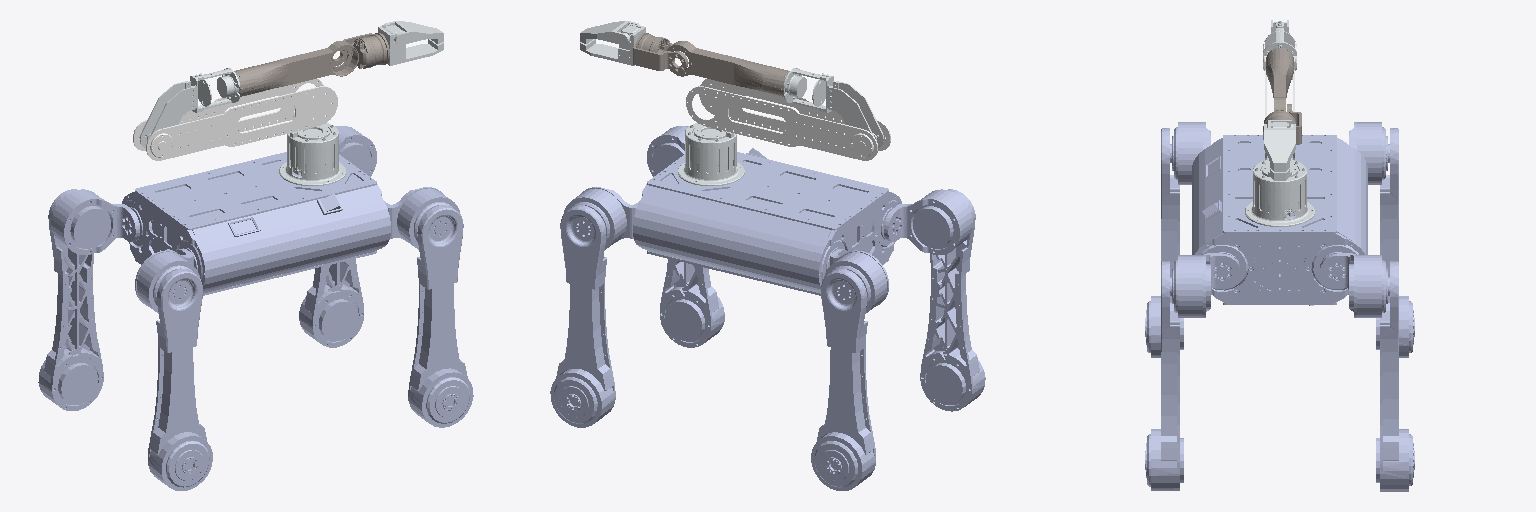
--- Render facts (derived) ---
Views: 3 orthographic renders of the robot side by side, from view 1: azimuth 30°, elevation 25°; view 2: azimuth 150°, elevation 25°; view 3: azimuth 270°, elevation 25°.
Model lion with 25 links and 24 joints (18 revolute, 6 fixed), rooted at base, posed joints at zero except 4 at the middle of their limits (RF_KFE = -1.75, LF_KFE = -1.75, RH_KFE = -1.75, LH_KFE = -1.75).
Links seen in each view (by area): view 1: base, RH_thigh, RF_thigh, upper_arm_link, LH_thigh, LF_thigh, LH_hip, lower_arm_link, arm_base_link, elbow_link, RF_hip, hand_link (+3 smaller); view 2: base, LH_thigh, LF_thigh, upper_arm_link, RH_thigh, RF_thigh, RH_hip, arm_base_link, elbow_link, lower_arm_link, LF_hip, hand_link (+3 smaller); view 3: base, LF_thigh, RF_thigh, RF_hip, LF_hip, arm_base_link, RH_thigh, LH_thigh, RH_hip, LH_hip, hand_link, lower_arm_link (+2 smaller).
Link boxes in pixels (bbox=[...]): base: bbox=[122, 152, 390, 295]; RH_thigh: bbox=[148, 269, 212, 490]; RF_thigh: bbox=[408, 205, 473, 427]; upper_arm_link: bbox=[133, 79, 337, 160]; LH_thigh: bbox=[38, 189, 103, 410]; LF_thigh: bbox=[299, 126, 363, 347]; LH_hip: bbox=[51, 189, 139, 254]; lower_arm_link: bbox=[234, 41, 358, 96]; arm_base_link: bbox=[279, 123, 345, 185]; elbow_link: bbox=[140, 68, 242, 147]; RF_hip: bbox=[384, 187, 460, 249]; hand_link: bbox=[378, 21, 443, 65]; base: bbox=[633, 148, 901, 295]; LH_thigh: bbox=[811, 269, 875, 490]; LF_thigh: bbox=[550, 205, 615, 427]; upper_arm_link: bbox=[686, 79, 890, 160]; RH_thigh: bbox=[920, 189, 985, 411]; RF_thigh: bbox=[660, 126, 724, 347]; RH_hip: bbox=[884, 189, 972, 254]; arm_base_link: bbox=[678, 121, 744, 185]; elbow_link: bbox=[781, 68, 883, 147]; lower_arm_link: bbox=[667, 41, 789, 96]; LF_hip: bbox=[563, 187, 638, 249]; hand_link: bbox=[580, 21, 645, 65]; base: bbox=[1192, 135, 1367, 305]; LF_thigh: bbox=[1376, 261, 1414, 491]; RF_thigh: bbox=[1145, 261, 1183, 490]; RF_hip: bbox=[1171, 253, 1239, 317]; LF_hip: bbox=[1320, 253, 1388, 317]; arm_base_link: bbox=[1245, 160, 1314, 226]; RH_thigh: bbox=[1145, 128, 1183, 357]; LH_thigh: bbox=[1376, 128, 1414, 357]; RH_hip: bbox=[1171, 122, 1210, 184]; LH_hip: bbox=[1349, 122, 1388, 184]; hand_link: bbox=[1264, 120, 1295, 180]; lower_arm_link: bbox=[1266, 48, 1293, 110].
Bounding box of the posed robot: 0.647 × 0.424 × 0.6394 m (x, y, z).
Meshes: 12 distinct files referenced, 15 mesh visuals loaded (9 binary STL); not drawn: 9 (reference not matched to a file when rendering).

robot.urdf — lion:
<?xml version="1.0" ?>
<!-- =================================================================================== -->
<!-- |    This document was autogenerated by xacro from robot.xacro                    | -->
<!-- |    EDITING THIS FILE BY HAND IS NOT RECOMMENDED                                 | -->
<!-- =================================================================================== -->
<robot name="lion">
  <!-- <xacro:arg name="robot_type" default="lion"/> -->
  <!-- ros_control plugin -->
  <gazebo>
    <plugin filename="liblegged_hw_sim.so" name="gazebo_ros_control">
      <robotNamespace>/</robotNamespace>
      <robotParam>legged_robot_description</robotParam>
      <robotSimType>legged_gazebo/QuadHWSim</robotSimType>
      <!-- <controlPeriod>0.002</controlPeriod> -->
    </plugin>
  </gazebo>
  <gazebo>
    <plugin filename="libgazebo_ros_p3d.so" name="p3d_base_controller">
      <alwaysOn>true</alwaysOn>
      <updateRate>1000.0</updateRate>
      <bodyName>base</bodyName>
      <topicName>ground_truth/state</topicName>
      <gaussianNoise>0</gaussianNoise>
      <frameName>world</frameName>
      <xyzOffsets>0 0 0</xyzOffsets>
      <rpyOffsets>0 0 0</rpyOffsets>
    </plugin>
  </gazebo>
  <gazebo reference="base">
    <maxVel>100.</maxVel>
    <kp>10000.</kp>
    <kd>0.</kd>
  </gazebo>
  <gazebo reference="stick_link">
    <mu1>0.2</mu1>
    <mu2>0.2</mu2>
    <material>Gazebo/White</material>
  </gazebo>
  <!-- LF leg -->
  <gazebo reference="LF_hip">
    <mu1>0.2</mu1>
    <mu2>0.2</mu2>
    <material>Gazebo/DarkGrey</material>
  </gazebo>
  <gazebo reference="LF_thigh">
    <mu1>0.2</mu1>
    <mu2>0.2</mu2>
    <self_collide>1</self_collide>
    <material>Gazebo/DarkGrey</material>
    <kp value="1000000.0"/>
    <kd value="1.0"/>
  </gazebo>
  <gazebo reference="LF_calf">
    <mu1>0.2</mu1>
    <mu2>0.2</mu2>
    <self_collide>1</self_collide>
  </gazebo>
  <gazebo reference="LF_FOOT">
    <mu1>0.9</mu1>
    <mu2>0.9</mu2>
    <self_collide>1</self_collide>
    <material>Gazebo/DarkGrey</material>
    <kp value="1000000.0"/>
    <kd value="100.0"/>
  </gazebo>
  <!-- RF leg -->
  <gazebo reference="RF_hip">
    <mu1>0.2</mu1>
    <mu2>0.2</mu2>
    <material>Gazebo/DarkGrey</material>
  </gazebo>
  <gazebo reference="RF_thigh">
    <mu1>0.2</mu1>
    <mu2>0.2</mu2>
    <self_collide>1</self_collide>
    <material>Gazebo/DarkGrey</material>
    <kp value="1000000.0"/>
    <kd value="1.0"/>
  </gazebo>
  <gazebo reference="RF_calf">
    <mu1>0.2</mu1>
    <mu2>0.2</mu2>
    <self_collide>1</self_collide>
  </gazebo>
  <gazebo reference="RF_FOOT">
    <mu1>0.9</mu1>
    <mu2>0.9</mu2>
    <self_collide>1</self_collide>
    <material>Gazebo/DarkGrey</material>
    <kp value="1000000.0"/>
    <kd value="1.0"/>
  </gazebo>
  <!-- LH leg -->
  <gazebo reference="LH_hip">
    <mu1>0.2</mu1>
    <mu2>0.2</mu2>
    <material>Gazebo/DarkGrey</material>
  </gazebo>
  <gazebo reference="LH_thigh">
    <mu1>0.2</mu1>
    <mu2>0.2</mu2>
    <self_collide>1</self_collide>
    <material>Gazebo/DarkGrey</material>
    <kp value="1000000.0"/>
    <kd value="1.0"/>
  </gazebo>
  <gazebo reference="LH_calf">
    <mu1>0.2</mu1>
    <mu2>0.2</mu2>
    <self_collide>1</self_collide>
  </gazebo>
  <gazebo reference="LH_FOOT">
    <mu1>0.9</mu1>
    <mu2>0.9</mu2>
    <self_collide>1</self_collide>
    <material>Gazebo/DarkGrey</material>
    <kp value="1000000.0"/>
    <kd value="1.0"/>
  </gazebo>
  <!-- RH leg -->
  <gazebo reference="RH_hip">
    <mu1>0.2</mu1>
    <mu2>0.2</mu2>
    <material>Gazebo/DarkGrey</material>
  </gazebo>
  <gazebo reference="RH_thigh">
    <mu1>0.2</mu1>
    <mu2>0.2</mu2>
    <self_collide>1</self_collide>
    <material>Gazebo/DarkGrey</material>
    <kp value="1000000.0"/>
    <kd value="1.0"/>
  </gazebo>
  <gazebo reference="RH_calf">
    <mu1>0.2</mu1>
    <mu2>0.2</mu2>
    <self_collide>1</self_collide>
  </gazebo>
  <gazebo reference="RH_FOOT">
    <mu1>0.9</mu1>
    <mu2>0.9</mu2>
    <self_collide>1</self_collide>
    <material>Gazebo/DarkGrey</material>
    <kp value="1000000.0"/>
    <kd value="1.0"/>
  </gazebo>
  <!-- <xacro:include filename="$(find lion_description)/urdf/$(arg robot_type)/const.xacro"/> -->
  <!--Quadruped Model*******************************************************************************************-->
  <link name="base">
    <inertial>
      <origin rpy="0 0 0" xyz="-0.000638750070817345 -0.00672058356158241 -0.00556735378698432"/>
      <mass value="8.286"/>
      <inertia ixx="0.056529" ixy="-0.001107" ixz="-3.045E-05" iyy="0.14156" iyz="-0.0011531" izz="0.17939"/>
    </inertial>
    <visual>
      <origin rpy="0 0 0" xyz="0 0 0"/>
      <geometry>
        <mesh filename="package://lion_description/meshes/base_link.STL"/>
      </geometry>
      <material name="">
        <color rgba="0.792156862745098 0.819607843137255 0.933333333333333 1"/>
      </material>
    </visual>
    <collision>
      <origin rpy="0 0 0" xyz="0 0 0"/>
      <geometry>
        <box size="0.35 0.24 0.14"/>
      </geometry>
    </collision>
  </link>
  <link name="RF_hip">
    <inertial>
      <origin rpy="0 0 0" xyz="-0.0050797 -0.047183 4.172E-05"/>
      <mass value="1.095"/>
      <inertia ixx="0.0010035" ixy="-0.00021789" ixz="1.433E-06" iyy="0.0014762" iyz="1.005E-06" izz="0.0012507"/>
    </inertial>
    <visual>
      <origin rpy="0 0 0" xyz="0 0 0"/>
      <geometry>
        <mesh filename="package://lion_description/meshes/hip_Link.STL"/>
      </geometry>
      <material name="">
        <color rgba="0.79216 0.81961 0.93333 1"/>
      </material>
    </visual>
    <collision>
      <origin rpy="1.5707963267948966 0 0" xyz="0.0 -0.05 0"/>
      <geometry>
        <!-- <box size="0.05 0.03 0.3"/> -->
        <cylinder length="0.06" radius="0.05"/>
      </geometry>
    </collision>
  </link>
  <joint name="RF_HAA" type="revolute">
    <origin rpy="0.0 0.0 0 " xyz="0.2467 -0.09 0"/>
    <parent link="base"/>
    <child link="RF_hip"/>
    <axis xyz="1 0 0"/>
    <limit effort="55" lower="-1.0" upper="1.0" velocity="30"/>
  </joint>
  <link name="RF_thigh">
    <inertial>
      ''
        
      <origin rpy="0 0 0" xyz="-2.7705E-05 -0.089684 -0.23198"/>
      <mass value="1.556"/>
      <inertia ixx="0.015631" ixy="-8.61E-07" ixz="-6.078E-06" iyy="0.016183" iyz="0.0004689" izz="0.0011163"/>
    </inertial>
    <visual>
      <origin rpy="0 0 0" xyz="0 0 0"/>
      <geometry>
        <mesh filename="package://lion_description/meshes/thigh_Link.STL"/>
      </geometry>
      <material name="">
        <color rgba="0.79216 0.81961 0.93333 1"/>
      </material>
    </visual>
    <collision>
      <origin rpy="1.5707963267948966 0 0" xyz="0 -0.09 -0.3"/>
      <geometry>
        <!-- <box size="0.05 0.03 0.3"/> -->
        <cylinder length="0.06" radius="0.05"/>
      </geometry>
    </collision>
  </link>
  <joint name="RF_HFE" type="revolute">
    <origin rpy="0 0.0 0" xyz="0 0 0"/>
    <parent link="RF_hip"/>
    <child link="RF_thigh"/>
    <axis xyz="0 1 0"/>
    <limit effort="55" lower="-3.0" upper="3.0" velocity="30"/>
  </joint>
  <link name="RF_calf">
    <inertial>
      <origin rpy="0 0 0" xyz="2.05E-06 -0.12517 -0.080832"/>
      <mass value="0.233"/>
      <inertia ixx="0.0033053" ixy="-3.64E-07" ixz="4.028E-06" iyy="0.0033126" iyz="-0.00013194" izz="4.3236E-05"/>
    </inertial>
    <visual>
      <origin rpy="0 0 0" xyz="0 0 0"/>
      <geometry>
        <mesh filename="package://lion_description/meshes/shank_Link.STL"/>
      </geometry>
      <material name="">
        <color rgba="0.79216 0.81961 0.93333 1"/>
      </material>
    </visual>
    <collision>
      <origin rpy="0 0 0" xyz="0 -0.119 -0.15"/>
      <geometry>
        <cylinder length="0.2" radius="0.01"/>
      </geometry>
    </collision>
  </link>
  <joint name="RF_KFE" type="revolute">
    <origin rpy="0 0 0" xyz="0 0 -0.3"/>
    <parent link="RF_thigh"/>
    <child link="RF_calf"/>
    <axis xyz="0 1 0"/>
    <limit effort="55" lower="-3.0" upper="-0.5" velocity="30"/>
  </joint>
  <link name="RF_FOOT">
    <contact>
      <friction_anchor/>
      <stiffness value="30000.0"/>
      <damping value="1000.0"/>
      <spinning_friction value="0.3"/>
      <lateral_friction value="3.0"/>
    </contact>
    <inertial>
      <origin rpy="0 0 0" xyz="0.0002617 0.00017365 0.0085579"/>
      <!-- <mass value="0.03946"/> -->
      <mass value="0.01"/>
      <!-- <inertia ixx="1.4527E-05" ixy="-8.5021E-08" ixz="-4.0103E-07" iyy="1.4601E-05" iyz="-2.6548E-07" izz="6.2338E-06"/> -->
      <inertia ixx="0.001983" ixy="0.000245" ixz="0.000013" iyy="0.002103" iyz="0.0000015" izz="0.000408"/>
    </inertial>
    <visual>
      <origin rpy="0 0 0" xyz="0 0 0"/>
      <geometry>
        <mesh filename="package://lion_description/meshes/foot_Link.STL"/>
      </geometry>
      <material name="">
        <color rgba="0.79216 0.81961 0.93333 1"/>
      </material>
    </visual>
    <collision>
      <origin rpy="0 0 0" xyz="0 0 0.002"/>
      <geometry>
        <sphere radius="0.02"/>
      </geometry>
    </collision>
  </link>
  <joint name="JointFR_foot" type="fixed">
    <origin rpy="0 0 0" xyz="0 -0.119 -0.3105"/>
    <parent link="RF_calf"/>
    <child link="RF_FOOT"/>
    <axis xyz="0 0 1"/>
  </joint>
  <link name="LF_hip">
    <inertial>
      <origin rpy="0 0 0" xyz="-0.0050797 -0.047183 4.172E-05"/>
      <!-- <mass value="0.39498"/> -->
      <mass value="1.095"/>
      <inertia ixx="0.0010035" ixy="-0.00021789" ixz="1.433E-06" iyy="0.0014762" iyz="1.005E-06" izz="0.0012507"/>
    </inertial>
    <visual>
      <origin rpy="0 0 0" xyz="0 0 0"/>
      <geometry>
        <mesh filename="package://lion_description/meshes/hip_Link.STL"/>
      </geometry>
      <material name="">
        <color rgba="0.79216 0.81961 0.93333 1"/>
      </material>
    </visual>
    <collision>
      <origin rpy="1.5707963267948966 0 0" xyz="0.0 -0.05 0"/>
      <geometry>
        <!-- <box size="0.05 0.03 0.3"/> -->
        <cylinder length="0.06" radius="0.05"/>
      </geometry>
    </collision>
  </link>
  <joint name="LF_HAA" type="revolute">
    <origin rpy="3.141592653589793 0.0 0 " xyz="0.2467 0.09 0"/>
    <parent link="base"/>
    <child link="LF_hip"/>
    <axis xyz="1 0 0"/>
    <limit effort="55" lower="-1.0" upper="1.0" velocity="30"/>
  </joint>
  <link name="LF_thigh">
    <inertial>
      <origin rpy="0 0 0" xyz="-2.7705E-05 -0.089684 -0.23198"/>
      <mass value="1.556"/>
      <inertia ixx="0.015631" ixy="-8.61E-07" ixz="-6.078E-06" iyy="0.016183" iyz="0.0004689" izz="0.0011163"/>
    </inertial>
    <visual>
      <origin rpy="0 0 0" xyz="0 0 0"/>
      <geometry>
        <mesh filename="package://lion_description/meshes/thigh_Link.STL"/>
      </geometry>
      <material name="">
        <color rgba="0.79216 0.81961 0.93333 1"/>
      </material>
    </visual>
    <collision>
      <origin rpy="1.5707963267948966 0 0" xyz="0 -0.09 -0.3"/>
      <geometry>
        <!-- <box size="0.05 0.03 0.3"/> -->
        <cylinder length="0.06" radius="0.05"/>
      </geometry>
    </collision>
  </link>
  <joint name="LF_HFE" type="revolute">
    <origin rpy="0 3.141592653589793 0" xyz="0 0 0"/>
    <parent link="LF_hip"/>
    <child link="LF_thigh"/>
    <axis xyz="0 -1 0"/>
    <limit effort="55" lower="-3.0" upper="3.0" velocity="30"/>
  </joint>
  <link name="LF_calf">
    <inertial>
      <origin rpy="0 0 0" xyz="2.05E-06 -0.12517 -0.080832"/>
      <mass value="0.233"/>
      <inertia ixx="0.0033053" ixy="-3.64E-07" ixz="4.028E-06" iyy="0.0033126" iyz="-0.00013194" izz="4.3236E-05"/>
    </inertial>
    <visual>
      <origin rpy="0 0 0" xyz="0 0 0"/>
      <geometry>
        <mesh filename="package://lion_description/meshes/shank_Link.STL"/>
      </geometry>
      <material name="">
        <color rgba="0.79216 0.81961 0.93333 1"/>
      </material>
    </visual>
    <collision>
      <origin rpy="0 0 0" xyz="0 -0.119 -0.15"/>
      <geometry>
        <cylinder length="0.2" radius="0.01"/>
      </geometry>
    </collision>
  </link>
  <joint name="LF_KFE" type="revolute">
    <origin rpy="0 0 0" xyz="0 0 -0.3"/>
    <parent link="LF_thigh"/>
    <child link="LF_calf"/>
    <axis xyz="0 -1 0"/>
    <limit effort="55" lower="-3.0" upper="-0.5" velocity="30"/>
  </joint>
  <link name="LF_FOOT">
    <contact>
      <friction_anchor/>
      <stiffness value="30000.0"/>
      <damping value="1000.0"/>
      <spinning_friction value="0.3"/>
      <lateral_friction value="3.0"/>
    </contact>
    <inertial>
      <origin rpy="0 0 0" xyz="0.0002617 0.00017365 0.0085579"/>
      <!-- <mass value="0.03946"/> -->
      <mass value="0.01"/>
      <!-- <inertia ixx="1.4527E-05" ixy="-8.5021E-08" ixz="-4.0103E-07" iyy="1.4601E-05" iyz="-2.6548E-07" izz="6.2338E-06"/> -->
      <inertia ixx="0.001983" ixy="0.000245" ixz="0.000013" iyy="0.002103" iyz="0.0000015" izz="0.000408"/>
    </inertial>
    <visual>
      <origin rpy="0 0 0" xyz="0 0 0"/>
      <geometry>
        <mesh filename="package://lion_description/meshes/foot_Link.STL"/>
      </geometry>
      <material name="">
        <color rgba="0.79216 0.81961 0.93333 1"/>
      </material>
    </visual>
    <collision>
      <origin rpy="0 0 0" xyz="0 0 0.002"/>
      <geometry>
        <sphere radius="0.02"/>
      </geometry>
    </collision>
  </link>
  <joint name="JointFL_foot" type="fixed">
    <origin rpy="0 0 0" xyz="0 -0.119 -0.3105"/>
    <parent link="LF_calf"/>
    <child link="LF_FOOT"/>
    <axis xyz="0 0 1"/>
  </joint>
  <link name="RH_hip">
    <inertial>
      <origin rpy="0 0 0" xyz="-0.0050797 -0.047183 4.172E-05"/>
      <mass value="1.095"/>
      <inertia ixx="0.0010035" ixy="-0.00021789" ixz="1.433E-06" iyy="0.0014762" iyz="1.005E-06" izz="0.0012507"/>
    </inertial>
    <visual>
      <origin rpy="0 0 0" xyz="0 0 0"/>
      <geometry>
        <mesh filename="package://lion_description/meshes/hip_Link.STL"/>
      </geometry>
      <material name="">
        <color rgba="0.79216 0.81961 0.93333 1"/>
      </material>
    </visual>
    <collision>
      <origin rpy="1.5707963267948966 0 0" xyz="0.0 -0.05 0"/>
      <geometry>
        <!-- <box size="0.05 0.03 0.3"/> -->
        <cylinder length="0.06" radius="0.05"/>
      </geometry>
    </collision>
  </link>
  <joint name="RH_HAA" type="revolute">
    <origin rpy="0.0 3.141592653589793 0 " xyz="-0.2467 -0.09 0"/>
    <parent link="base"/>
    <child link="RH_hip"/>
    <axis xyz="-1 0 0"/>
    <limit effort="55" lower="-1.0" upper="1.0" velocity="30"/>
  </joint>
  <link name="RH_thigh">
    <inertial>
      <origin rpy="0 0 0" xyz="-2.7705E-05 -0.089684 -0.23198"/>
      <mass value="1.556"/>
      <inertia ixx="0.015631" ixy="-8.61E-07" ixz="-6.078E-06" iyy="0.016183" iyz="0.0004689" izz="0.0011163"/>
    </inertial>
    <visual>
      <origin rpy="0 0 0" xyz="0 0 0"/>
      <geometry>
        <mesh filename="package://lion_description/meshes/thigh_Link.STL"/>
      </geometry>
      <material name="">
        <color rgba="0.79216 0.81961 0.93333 1"/>
      </material>
    </visual>
    <collision>
      <origin rpy="1.5707963267948966 0 0" xyz="0 -0.09 -0.3"/>
      <geometry>
        <!-- <box size="0.05 0.03 0.3"/> -->
        <cylinder length="0.06" radius="0.05"/>
      </geometry>
    </collision>
  </link>
  <joint name="RH_HFE" type="revolute">
    <origin rpy="0 3.141592653589793 0" xyz="0 0 0"/>
    <parent link="RH_hip"/>
    <child link="RH_thigh"/>
    <axis xyz="0 1 0"/>
    <limit effort="55" lower="-3.0" upper="3.0" velocity="30"/>
  </joint>
  <link name="RH_calf">
    <inertial>
      <origin rpy="0 0 0" xyz="2.05E-06 -0.12517 -0.080832"/>
      <mass value="0.233"/>
      <inertia ixx="0.0033053" ixy="-3.64E-07" ixz="4.028E-06" iyy="0.0033126" iyz="-0.00013194" izz="4.3236E-05"/>
    </inertial>
    <visual>
      <origin rpy="0 0 0" xyz="0 0 0"/>
      <geometry>
        <mesh filename="package://lion_description/meshes/shank_Link.STL"/>
      </geometry>
      <material name="">
        <color rgba="0.79216 0.81961 0.93333 1"/>
      </material>
    </visual>
    <collision>
      <origin rpy="0 0 0" xyz="0 -0.119 -0.15"/>
      <geometry>
        <cylinder length="0.2" radius="0.01"/>
      </geometry>
    </collision>
  </link>
  <joint name="RH_KFE" type="revolute">
    <origin rpy="0 0 0" xyz="0 0 -0.3"/>
    <parent link="RH_thigh"/>
    <child link="RH_calf"/>
    <axis xyz="0 1 0"/>
    <limit effort="55" lower="-3.0" upper="-0.5" velocity="30"/>
  </joint>
  <link name="RH_FOOT">
    <contact>
      <friction_anchor/>
      <stiffness value="30000.0"/>
      <damping value="1000.0"/>
      <spinning_friction value="0.3"/>
      <lateral_friction value="3.0"/>
    </contact>
    <inertial>
      <origin rpy="0 0 0" xyz="0.0002617 0.00017365 0.0085579"/>
      <!-- <mass value="0.03946"/> -->
      <mass value="0.01"/>
      <!-- <inertia ixx="1.4527E-05" ixy="-8.5021E-08" ixz="-4.0103E-07" iyy="1.4601E-05" iyz="-2.6548E-07" izz="6.2338E-06"/> -->
      <inertia ixx="0.001983" ixy="0.000245" ixz="0.000013" iyy="0.002103" iyz="0.0000015" izz="0.000408"/>
    </inertial>
    <visual>
      <origin rpy="0 0 0" xyz="0 0 0"/>
      <geometry>
        <mesh filename="package://lion_description/meshes/foot_Link.STL"/>
      </geometry>
      <material name="">
        <color rgba="0.79216 0.81961 0.93333 1"/>
      </material>
    </visual>
    <collision>
      <origin rpy="0 0 0" xyz="0 0 0.002"/>
      <geometry>
        <sphere radius="0.02"/>
      </geometry>
    </collision>
  </link>
  <joint name="JointHR_foot" type="fixed">
    <origin rpy="0 0 0" xyz="0 -0.119 -0.3105"/>
    <parent link="RH_calf"/>
    <child link="RH_FOOT"/>
    <axis xyz="0 0 1"/>
  </joint>
  <link name="LH_hip">
    <inertial>
      <origin rpy="0 0 0" xyz="-0.0050797 -0.047183 4.172E-05"/>
      <mass value="1.095"/>
      <inertia ixx="0.0010035" ixy="-0.00021789" ixz="1.433E-06" iyy="0.0014762" iyz="1.005E-06" izz="0.0012507"/>
    </inertial>
    <visual>
      <origin rpy="0 0 0" xyz="0 0 0"/>
      <geometry>
        <mesh filename="package://lion_description/meshes/hip_Link.STL"/>
      </geometry>
      <material name="">
        <color rgba="0.79216 0.81961 0.93333 1"/>
      </material>
    </visual>
    <collision>
      <origin rpy="1.5707963267948966 0 0" xyz="0.0 -0.05 0"/>
      <geometry>
        <!-- <box size="0.05 0.03 0.3"/> -->
        <cylinder length="0.06" radius="0.05"/>
      </geometry>
    </collision>
  </link>
  <joint name="LH_HAA" type="revolute">
    <origin rpy="3.141592653589793 3.141592653589793 0 " xyz="-0.2467 0.09 0"/>
    <parent link="base"/>
    <child link="LH_hip"/>
    <axis xyz="-1 0 0"/>
    <limit effort="55" lower="-1.0" upper="1.0" velocity="30"/>
  </joint>
  <link name="LH_thigh">
    <inertial>
      <origin rpy="0 0 0" xyz="-2.7705E-05 -0.089684 -0.23198"/>
      <mass value="1.556"/>
      <inertia ixx="0.015631" ixy="-8.61E-07" ixz="-6.078E-06" iyy="0.016183" iyz="0.0004689" izz="0.0011163"/>
    </inertial>
    <visual>
      <origin rpy="0 0 0" xyz="0 0 0"/>
      <geometry>
        <mesh filename="package://lion_description/meshes/thigh_Link.STL"/>
      </geometry>
      <material name="">
        <color rgba="0.79216 0.81961 0.93333 1"/>
      </material>
    </visual>
    <collision>
      <origin rpy="1.5707963267948966 0 0" xyz="0 -0.09 -0.3"/>
      <geometry>
        <!-- <box size="0.05 0.03 0.3"/> -->
        <cylinder length="0.06" radius="0.05"/>
      </geometry>
    </collision>
  </link>
  <joint name="LH_HFE" type="revolute">
    <origin rpy="0 6.283185307179586 0" xyz="0 0 0"/>
    <parent link="LH_hip"/>
    <child link="LH_thigh"/>
    <axis xyz="0 -1 0"/>
    <limit effort="55" lower="-3.0" upper="3.0" velocity="30"/>
  </joint>
  <link name="LH_calf">
    <inertial>
      <origin rpy="0 0 0" xyz="2.05E-06 -0.12517 -0.080832"/>
      <mass value="0.233"/>
      <inertia ixx="0.0033053" ixy="-3.64E-07" ixz="4.028E-06" iyy="0.0033126" iyz="-0.00013194" izz="4.3236E-05"/>
    </inertial>
    <visual>
      <origin rpy="0 0 0" xyz="0 0 0"/>
      <geometry>
        <mesh filename="package://lion_description/meshes/shank_Link.STL"/>
      </geometry>
      <material name="">
        <color rgba="0.79216 0.81961 0.93333 1"/>
      </material>
    </visual>
    <collision>
      <origin rpy="0 0 0" xyz="0 -0.119 -0.15"/>
      <geometry>
        <cylinder length="0.2" radius="0.01"/>
      </geometry>
    </collision>
  </link>
  <joint name="LH_KFE" type="revolute">
    <origin rpy="0 0 0" xyz="0 0 -0.3"/>
    <parent link="LH_thigh"/>
    <child link="LH_calf"/>
    <axis xyz="0 -1 0"/>
    <limit effort="55" lower="-3.0" upper="-0.5" velocity="30"/>
  </joint>
  <link name="LH_FOOT">
    <contact>
      <friction_anchor/>
      <stiffness value="30000.0"/>
      <damping value="1000.0"/>
      <spinning_friction value="0.3"/>
      <lateral_friction value="3.0"/>
    </contact>
    <inertial>
      <origin rpy="0 0 0" xyz="0.0002617 0.00017365 0.0085579"/>
      <!-- <mass value="0.03946"/> -->
      <mass value="0.01"/>
      <!-- <inertia ixx="1.4527E-05" ixy="-8.5021E-08" ixz="-4.0103E-07" iyy="1.4601E-05" iyz="-2.6548E-07" izz="6.2338E-06"/> -->
      <inertia ixx="0.001983" ixy="0.000245" ixz="0.000013" iyy="0.002103" iyz="0.0000015" izz="0.000408"/>
    </inertial>
    <visual>
      <origin rpy="0 0 0" xyz="0 0 0"/>
      <geometry>
        <mesh filename="package://lion_description/meshes/foot_Link.STL"/>
      </geometry>
      <material name="">
        <color rgba="0.79216 0.81961 0.93333 1"/>
      </material>
    </visual>
    <collision>
      <origin rpy="0 0 0" xyz="0 0 0.002"/>
      <geometry>
        <sphere radius="0.02"/>
      </geometry>
    </collision>
  </link>
  <joint name="JointHL_foot" type="fixed">
    <origin rpy="0 0 0" xyz="0 -0.119 -0.3105"/>
    <parent link="LH_calf"/>
    <child link="LH_FOOT"/>
    <axis xyz="0 0 1"/>
  </joint>
  <!-- Arm Model ********************************************************************************************************  -->
  <link name="arm_base_link">
    <inertial>
      <origin rpy="0 0 0" xyz="-2.655E-05 -0.00013067 0.042361"/>
      <mass value="0.91201"/>
      <inertia ixx="0.00076553" ixy="3.0928E-06" ixz="4.0773E-06" iyy="0.000762" iyz="-3.7031E-06" izz="0.00081713"/>
    </inertial>
    <visual>
      <origin rpy="0 0 0" xyz="0 0 0"/>
      <geometry>
        <mesh filename="package://lion_armed_description/meshes/arm_base_link.STL"/>
      </geometry>
      <material name="">
        <color rgba="0.89804 0.91765 0.92941 1"/>
      </material>
    </visual>
    <collision>
      <origin rpy="0 0 0" xyz="0 0 0.04"/>
      <geometry>
        <cylinder length="0.06" radius="0.045"/>
      </geometry>
    </collision>
  </link>
  <joint name="body_arm" type="fixed">
    <origin rpy="0 0 0" xyz="0.1075 0 0.0635"/>
    <parent link="base"/>
    <child link="arm_base_link"/>
    <axis xyz="0 0 -1"/>
    <limit effort="0" lower="0" upper="0" velocity="0"/>
  </joint>
  <link name="shoulder_link">
    <inertial>
      <origin rpy="0 0 0" xyz="4.6648E-05 0.00012015 -0.0013725"/>
      <mass value="1.8076"/>
      <inertia ixx="0.0070637" ixy="-1.1248E-07" ixz="4.2676E-06" iyy="0.0014085" iyz="-1.6705E-06" izz="0.0069672"/>
    </inertial>
    <visual>
      <origin rpy="0 0 0" xyz="0 0 0"/>
      <geometry>
        <mesh filename="package://lion_armed_description/meshes/shoulder_link.STL"/>
      </geometry>
      <material name="">
        <color rgba="0.89804 0.91765 0.92941 1"/>
      </material>
    </visual>
    <collision>
      <origin rpy="1.5707963267948966 0 0" xyz="0 0 0"/>
      <geometry>
        <cylinder length="0.2" radius="0.04"/>
      </geometry>
    </collision>
  </link>
  <joint name="joint1" type="revolute">
    <origin rpy="0 0 0" xyz="0 0 0.128"/>
    <parent link="arm_base_link"/>
    <child link="shoulder_link"/>
    <axis xyz="0 0 -1"/>
    <limit effort="15.0" lower="-2.618" upper="2.618" velocity="20.0"/>
  </joint>
  <link name="upper_arm_link">
    <inertial>
      <origin rpy="0 0 0" xyz="-0.16223 -0.00053457 -9.6145E-14"/>
      <mass value="0.20654"/>
      <inertia ixx="0.00017354" ixy="4.7067E-05" ixz="-8.9112E-16" iyy="0.0023721" iyz="4.6757E-16" izz="0.0023909"/>
    </inertial>
    <visual>
      <origin rpy="0 0 0" xyz="0 0 0"/>
      <geometry>
        <mesh filename="package://lion_armed_description/meshes/upper_arm_link.STL"/>
      </geometry>
      <material name="">
        <color rgba="1 1 1 1"/>
      </material>
    </visual>
    <collision>
      <origin rpy="0 0 0" xyz="-0.17 0 0"/>
      <geometry>
        <box size="0.25 0.045 0.06"/>
      </geometry>
    </collision>
  </link>
  <joint name="joint2" type="revolute">
    <origin rpy="0 0 0" xyz="0 0 0"/>
    <parent link="shoulder_link"/>
    <child link="upper_arm_link"/>
    <axis xyz="0 1 0"/>
    <limit effort="15.0" lower="0" upper="3.665" velocity="20.0"/>
  </joint>
  <link name="elbow_link">
    <inertial>
      <origin rpy="0 0 0" xyz="0.0776630957799923 -5.66684882904192E-06 0.0506455368238795"/>
      <mass value="0.19779615464477"/>
      <inertia ixx="0.000172309779571075" ixy="5.40217940566371E-08" ixz="-0.000202557640418278" iyy="0.000759104610858122" iyz="2.15341009549695E-08" izz="0.000636430285987363"/>
    </inertial>
    <visual>
      <origin rpy="0 0 0" xyz="0 0 0"/>
      <geometry>
        <mesh filename="package://lion_armed_description/meshes/elbow_link.STL"/>
      </geometry>
      <material name="">
        <color rgba="0.898039215686275 0.917647058823529 0.929411764705882 1"/>
      </material>
    </visual>
    <collision>
      <origin rpy="0 1.5707963267948966 0" xyz="0.1 0 0.065"/>
      <geometry>
        <cylinder length="0.09" radius="0.025"/>
      </geometry>
    </collision>
  </link>
  <joint name="joint3" type="revolute">
    <origin rpy="0 0 0" xyz="-0.3 0 0"/>
    <parent link="upper_arm_link"/>
    <child link="elbow_link"/>
    <axis xyz="0 -1 0"/>
    <limit effort="15.0" lower="0" upper="4.188" velocity="20.0"/>
  </joint>
  <link name="lower_arm_link">
    <inertial>
      <origin rpy="0 0 0" xyz="0.259131075077944 0.000561908541381621 1.63162643829207E-06"/>
      <mass value="0.237992640601958"/>
      <inertia ixx="8.1971938649496E-05" ixy="-1.16251515064919E-05" ixz="2.28325579601934E-17" iyy="0.00109175485406717" iyz="1.11323021885341E-10" izz="0.00106324137537677"/>
    </inertial>
    <visual>
      <origin rpy="0 0 0" xyz="0 0 0"/>
      <geometry>
        <mesh filename="package://lion_armed_description/meshes/lower_arm_link.STL"/>
      </geometry>
      <material name="">
        <color rgba="0.686274509803922 0.658823529411765 0.63921568627451 1"/>
      </material>
    </visual>
    <collision>
      <origin rpy="0 0 0" xyz="0.27 0 0"/>
      <geometry>
        <box size="0.24 0.025 0.05"/>
      </geometry>
    </collision>
  </link>
  <joint name="joint4" type="revolute">
    <origin rpy="0 0 0" xyz="0 -4.7023E-05 0.064998"/>
    <parent link="elbow_link"/>
    <child link="lower_arm_link"/>
    <axis xyz="-1 0 0"/>
    <limit effort="15.0" lower="-3.14" upper="3.14" velocity="20.0"/>
  </joint>
  <link name="wrist_link">
    <inertial>
      <origin rpy="0 0 0" xyz="0.048236 0.0079922 -2.4907E-05"/>
      <mass value="0.20482"/>
      <inertia ixx="0.00010001" ixy="2.0576E-05" ixz="3.8277E-08" iyy="0.00015052" iyz="-7.2338E-08" izz="0.00017601"/>
    </inertial>
    <visual>
      <origin rpy="0 0 0" xyz="0 0 0"/>
      <geometry>
        <mesh filename="package://lion_armed_description/meshes/wrist_link.STL"/>
      </geometry>
      <material name="">
        <color rgba="0.68627 0.65882 0.63922 1"/>
      </material>
    </visual>
    <collision>
      <origin rpy="0 1.5707963267948966 0" xyz="0.06 0 0"/>
      <geometry>
        <cylinder length="0.035" radius="0.025"/>
      </geometry>
    </collision>
  </link>
  <joint name="joint5" type="revolute">
    <origin rpy="0 0 0" xyz="0.354 4.7023E-05 0"/>
    <parent link="lower_arm_link"/>
    <child link="wrist_link"/>
    <axis xyz="0 -1 0"/>
    <limit effort="15.0" lower="-1.571" upper="1.571" velocity="20.0"/>
  </joint>
  <link name="hand_link">
    <inertial>
      <origin rpy="0 0 0" xyz="0.12082 -0.00020649 0.0038737"/>
      <mass value="0.34303"/>
      <inertia ixx="0.0001455" ixy="-1.5454E-06" ixz="2.0576E-05" iyy="0.00041843" iyz="3.6627E-07" izz="0.00037382"/>
    </inertial>
    <visual>
      <origin rpy="0 0 0" xyz="0 0 0"/>
      <geometry>
        <mesh filename="package://lion_armed_description/meshes/hand_link.STL"/>
      </geometry>
      <material name="">
        <color rgba="0.89804 0.91765 0.92941 1"/>
      </material>
    </visual>
    <collision>
      <origin rpy="0 0 0" xyz="0.135 0.01 0"/>
      <geometry>
        <box size="0.1 0.06 0.05"/>
      </geometry>
    </collision>
  </link>
  <joint name="joint6" type="revolute">
    <origin rpy="0 0 0" xyz="0 0 0"/>
    <parent link="wrist_link"/>
    <child link="hand_link"/>
    <axis xyz="1 0 0"/>
    <limit effort="15.0" lower="-3.14" upper="3.14" velocity="20.0"/>
  </joint>
  <!-- Imu is fixed to the base link -->
  <joint name="unitree_imu_joint" type="fixed">
    <origin rpy="0. 0. 0." xyz="0. 0. 0."/>
    <parent link="base"/>
    <child link="unitree_imu"/>
  </joint>
  <!-- Imu link -->
  <link name="unitree_imu">
    <inertial>
      <mass value="0.01"/>
      <origin rpy="0 0 0" xyz="0 0 0"/>
      <inertia ixx="0.000001" ixy="0" ixz="0" iyy="0.000001" iyz="0" izz="0.000001"/>
    </inertial>
    <visual>
      <origin rpy="0 0 0" xyz="0 0 0"/>
      <geometry>
        <box size="0.015 0.015 0.004"/>
      </geometry>
    </visual>
    <material name="orange">
      <color rgba="255 108 10 255"/>
    </material>
  </link>
  <gazebo reference="unitree_imu">
    <material>Gazebo/Orange</material>
  </gazebo>
  <gazebo reference="unitree_imu_joint">
    <disableFixedJointLumping>true</disableFixedJointLumping>
  </gazebo>
  <transmission name="RF_HAA_tran">
    <type>transmission_interface/SimpleTransmission</type>
    <joint name="RF_HAA">
      <hardwareInterface>hardware_interface/EffortJointInterface</hardwareInterface>
    </joint>
    <actuator name="RF_HAA_motor">
      <hardwareInterface>hardware_interface/EffortJointInterface</hardwareInterface>
      <mechanicalReduction>1</mechanicalReduction>
    </actuator>
  </transmission>
  <transmission name="RF_HFE_tran">
    <type>transmission_interface/SimpleTransmission</type>
    <joint name="RF_HFE">
      <hardwareInterface>hardware_interface/EffortJointInterface</hardwareInterface>
    </joint>
    <actuator name="RF_HFE_motor">
      <hardwareInterface>hardware_interface/EffortJointInterface</hardwareInterface>
      <mechanicalReduction>1</mechanicalReduction>
    </actuator>
  </transmission>
  <transmission name="RF_KFE_tran">
    <type>transmission_interface/SimpleTransmission</type>
    <joint name="RF_KFE">
      <hardwareInterface>hardware_interface/EffortJointInterface</hardwareInterface>
    </joint>
    <actuator name="RF_KFE_motor">
      <hardwareInterface>hardware_interface/EffortJointInterface</hardwareInterface>
      <mechanicalReduction>1</mechanicalReduction>
    </actuator>
  </transmission>
  <transmission name="LF_HAA_tran">
    <type>transmission_interface/SimpleTransmission</type>
    <joint name="LF_HAA">
      <hardwareInterface>hardware_interface/EffortJointInterface</hardwareInterface>
    </joint>
    <actuator name="LF_HAA_motor">
      <hardwareInterface>hardware_interface/EffortJointInterface</hardwareInterface>
      <mechanicalReduction>1</mechanicalReduction>
    </actuator>
  </transmission>
  <transmission name="LF_HFE_tran">
    <type>transmission_interface/SimpleTransmission</type>
    <joint name="LF_HFE">
      <hardwareInterface>hardware_interface/EffortJointInterface</hardwareInterface>
    </joint>
    <actuator name="LF_HFE_motor">
      <hardwareInterface>hardware_interface/EffortJointInterface</hardwareInterface>
      <mechanicalReduction>1</mechanicalReduction>
    </actuator>
  </transmission>
  <transmission name="LF_KFE_tran">
    <type>transmission_interface/SimpleTransmission</type>
    <joint name="LF_KFE">
      <hardwareInterface>hardware_interface/EffortJointInterface</hardwareInterface>
    </joint>
    <actuator name="LF_KFE_motor">
      <hardwareInterface>hardware_interface/EffortJointInterface</hardwareInterface>
      <mechanicalReduction>1</mechanicalReduction>
    </actuator>
  </transmission>
  <transmission name="RH_HAA_tran">
    <type>transmission_interface/SimpleTransmission</type>
    <joint name="RH_HAA">
      <hardwareInterface>hardware_interface/EffortJointInterface</hardwareInterface>
    </joint>
    <actuator name="RH_HAA_motor">
      <hardwareInterface>hardware_interface/EffortJointInterface</hardwareInterface>
      <mechanicalReduction>1</mechanicalReduction>
    </actuator>
  </transmission>
  <transmission name="RH_HFE_tran">
    <type>transmission_interface/SimpleTransmission</type>
    <joint name="RH_HFE">
      <hardwareInterface>hardware_interface/EffortJointInterface</hardwareInterface>
    </joint>
    <actuator name="RH_HFE_motor">
      <hardwareInterface>hardware_interface/EffortJointInterface</hardwareInterface>
      <mechanicalReduction>1</mechanicalReduction>
    </actuator>
  </transmission>
  <transmission name="RH_KFE_tran">
    <type>transmission_interface/SimpleTransmission</type>
    <joint name="RH_KFE">
      <hardwareInterface>hardware_interface/EffortJointInterface</hardwareInterface>
    </joint>
    <actuator name="RH_KFE_motor">
      <hardwareInterface>hardware_interface/EffortJointInterface</hardwareInterface>
      <mechanicalReduction>1</mechanicalReduction>
    </actuator>
  </transmission>
  <transmission name="LH_HAA_tran">
    <type>transmission_interface/SimpleTransmission</type>
    <joint name="LH_HAA">
      <hardwareInterface>hardware_interface/EffortJointInterface</hardwareInterface>
    </joint>
    <actuator name="LH_HAA_motor">
      <hardwareInterface>hardware_interface/EffortJointInterface</hardwareInterface>
      <mechanicalReduction>1</mechanicalReduction>
    </actuator>
  </transmission>
  <transmission name="LH_HFE_tran">
    <type>transmission_interface/SimpleTransmission</type>
    <joint name="LH_HFE">
      <hardwareInterface>hardware_interface/EffortJointInterface</hardwareInterface>
    </joint>
    <actuator name="LH_HFE_motor">
      <hardwareInterface>hardware_interface/EffortJointInterface</hardwareInterface>
      <mechanicalReduction>1</mechanicalReduction>
    </actuator>
  </transmission>
  <transmission name="LH_KFE_tran">
    <type>transmission_interface/SimpleTransmission</type>
    <joint name="LH_KFE">
      <hardwareInterface>hardware_interface/EffortJointInterface</hardwareInterface>
    </joint>
    <actuator name="LH_KFE_motor">
      <hardwareInterface>hardware_interface/EffortJointInterface</hardwareInterface>
      <mechanicalReduction>1</mechanicalReduction>
    </actuator>
  </transmission>
  <transmission name="joint1_tran">
    <type>transmission_interface/SimpleTransmission</type>
    <joint name="joint1">
      <hardwareInterface>hardware_interface/EffortJointInterface</hardwareInterface>
    </joint>
    <actuator name="joint1_motor">
      <hardwareInterface>hardware_interface/EffortJointInterface</hardwareInterface>
      <mechanicalReduction>1</mechanicalReduction>
    </actuator>
  </transmission>
  <transmission name="joint2_tran">
    <type>transmission_interface/SimpleTransmission</type>
    <joint name="joint2">
      <hardwareInterface>hardware_interface/EffortJointInterface</hardwareInterface>
    </joint>
    <actuator name="joint2_motor">
      <hardwareInterface>hardware_interface/EffortJointInterface</hardwareInterface>
      <mechanicalReduction>1</mechanicalReduction>
    </actuator>
  </transmission>
  <transmission name="joint3_tran">
    <type>transmission_interface/SimpleTransmission</type>
    <joint name="joint3">
      <hardwareInterface>hardware_interface/EffortJointInterface</hardwareInterface>
    </joint>
    <actuator name="joint3_motor">
      <hardwareInterface>hardware_interface/EffortJointInterface</hardwareInterface>
      <mechanicalReduction>1</mechanicalReduction>
    </actuator>
  </transmission>
  <transmission name="joint4_tran">
    <type>transmission_interface/SimpleTransmission</type>
    <joint name="joint4">
      <hardwareInterface>hardware_interface/EffortJointInterface</hardwareInterface>
    </joint>
    <actuator name="joint4_motor">
      <hardwareInterface>hardware_interface/EffortJointInterface</hardwareInterface>
      <mechanicalReduction>1</mechanicalReduction>
    </actuator>
  </transmission>
  <transmission name="joint5_tran">
    <type>transmission_interface/SimpleTransmission</type>
    <joint name="joint5">
      <hardwareInterface>hardware_interface/EffortJointInterface</hardwareInterface>
    </joint>
    <actuator name="joint5_motor">
      <hardwareInterface>hardware_interface/EffortJointInterface</hardwareInterface>
      <mechanicalReduction>1</mechanicalReduction>
    </actuator>
  </transmission>
  <transmission name="joint6_tran">
    <type>transmission_interface/SimpleTransmission</type>
    <joint name="joint6">
      <hardwareInterface>hardware_interface/EffortJointInterface</hardwareInterface>
    </joint>
    <actuator name="joint6_motor">
      <hardwareInterface>hardware_interface/EffortJointInterface</hardwareInterface>
      <mechanicalReduction>1</mechanicalReduction>
    </actuator>
  </transmission>
</robot>
